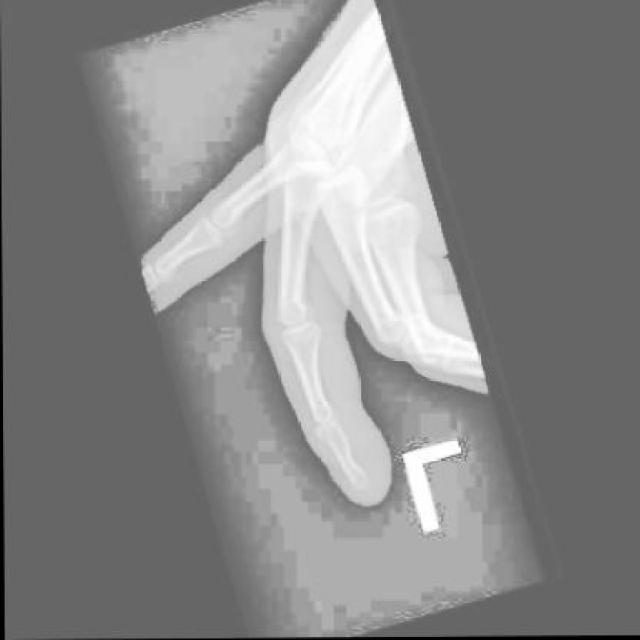Fracture: (314, 420, 354, 462)
